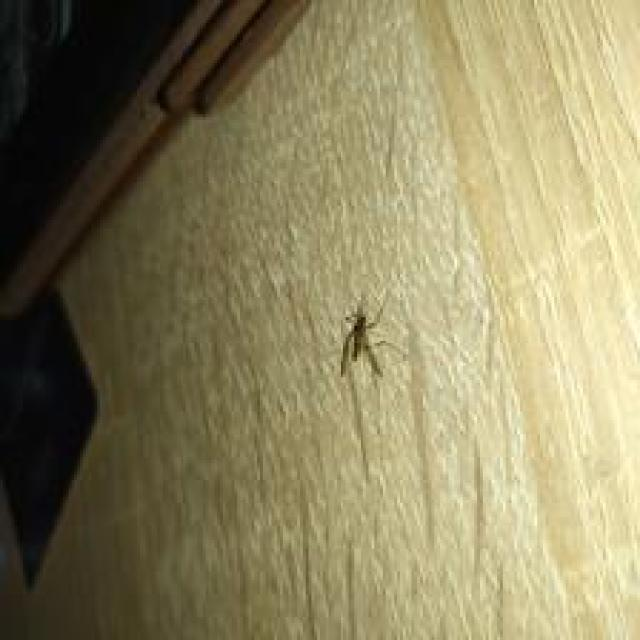Culex: (336, 302, 401, 382)
